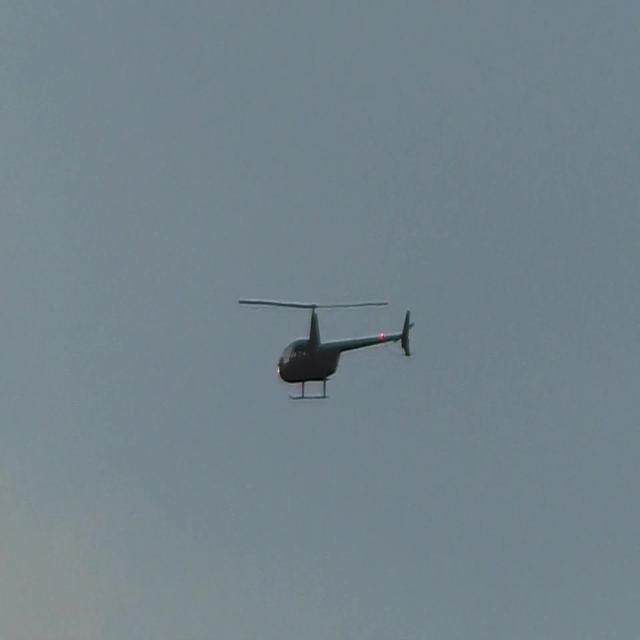CIV_HELO: (274, 303, 414, 403)
